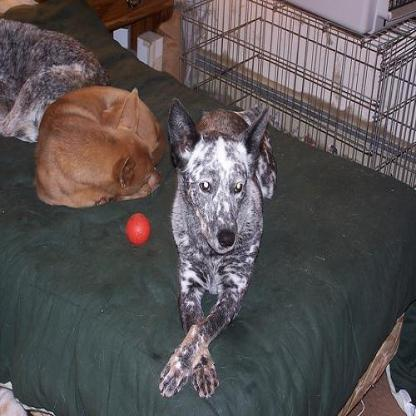kelpie: (156, 96, 277, 397), (34, 82, 162, 210)
